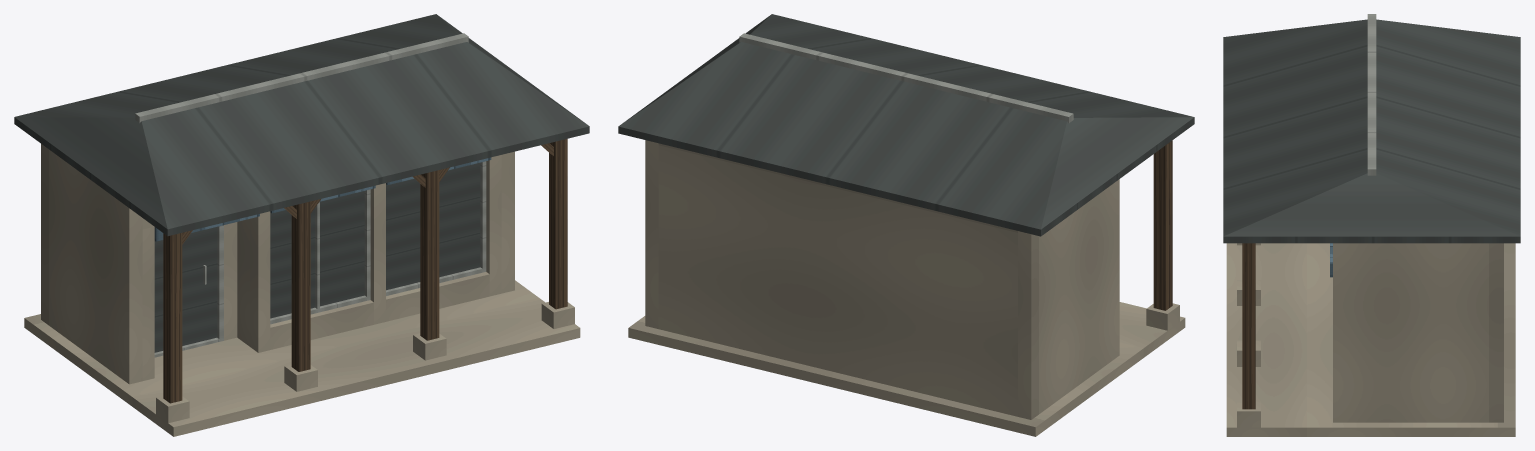
File: riga.glb
The picture shows the model from 3 angles, left to right: view 1: azimuth 30°, elevation 25°; view 2: azimuth 150°, elevation 25°; view 3: azimuth 270°, elevation 25°; orthographic projection. The views are drawn at different scales.
Visible parts, largest first — view 1: riga; view 2: riga; view 3: riga.
Boxes of the visible parts, bbox=[...] form: riga: bbox=[14, 14, 589, 436]; riga: bbox=[618, 14, 1194, 436]; riga: bbox=[1223, 14, 1520, 436].
Size of the model in its own units: 6.35 by 3.7 by 4.
1 material, 1 textured.
